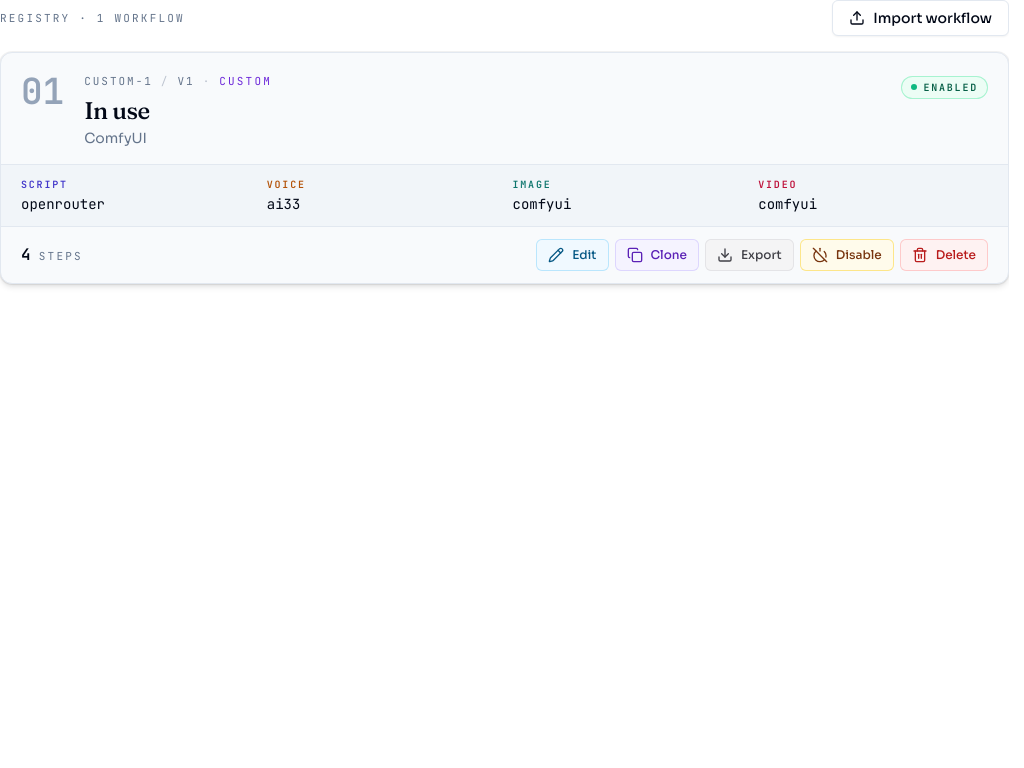
Scenario: WorkflowsTable delete confirm › on 409 workflow_in_use, shows toast with video count and closes dialog
Click the button "Delete" at point(944, 254), box [900, 238, 988, 270]
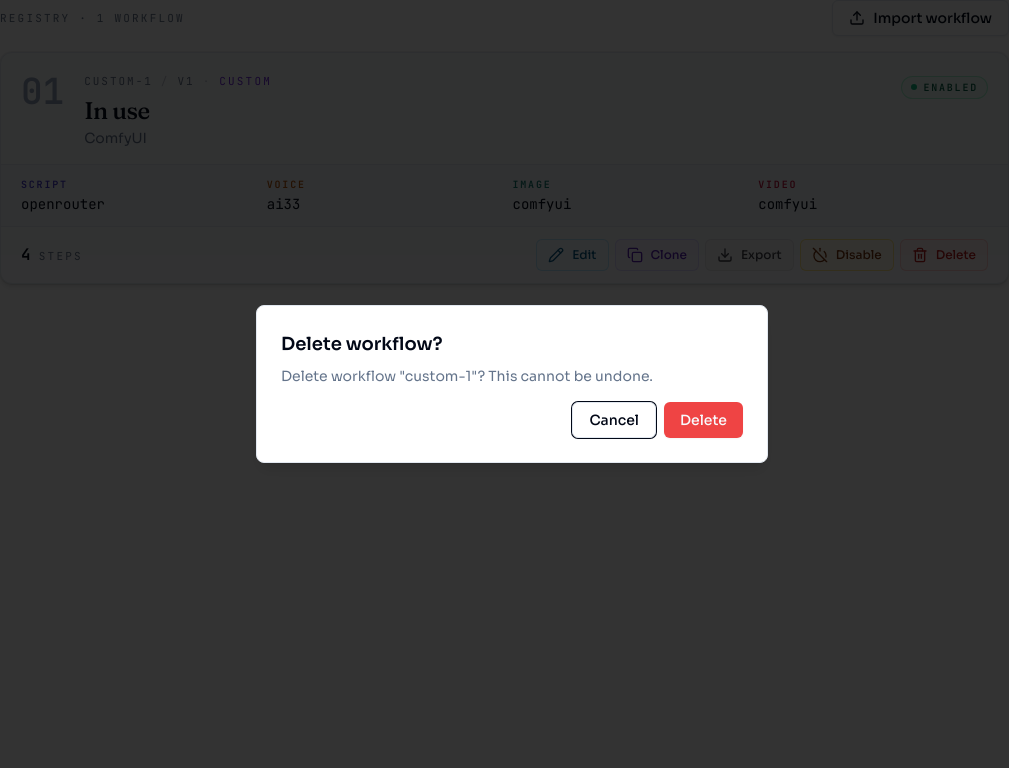
Click the button "Delete" at point(704, 420), box [664, 402, 743, 438]
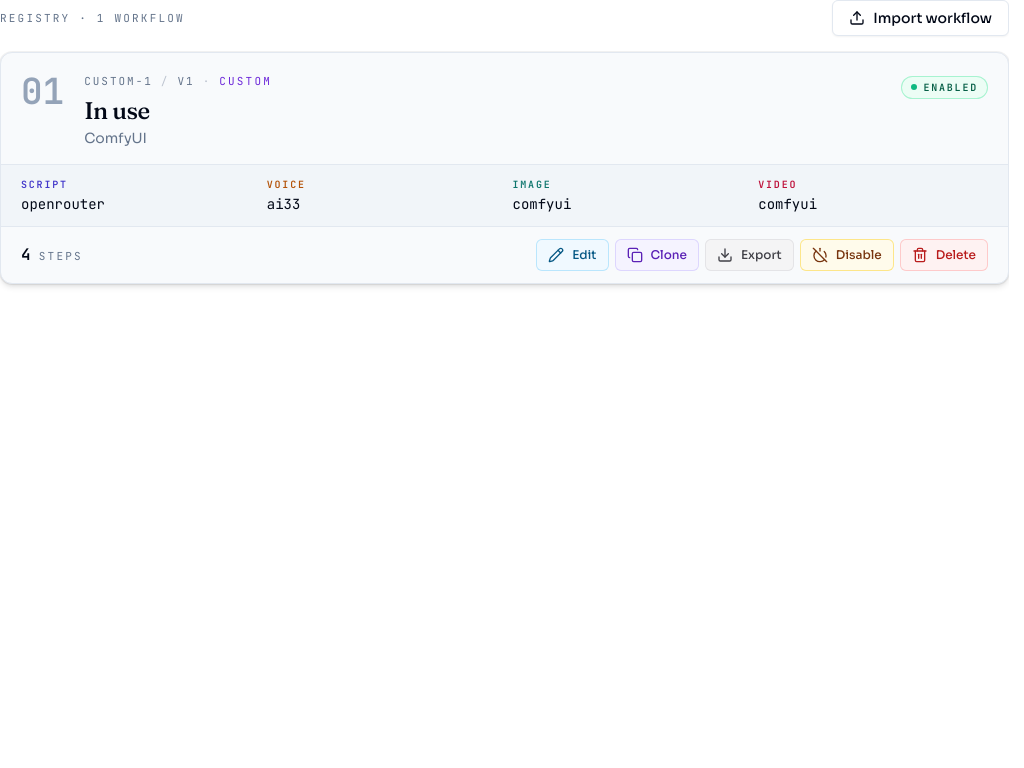
Result: the dialog is gone
